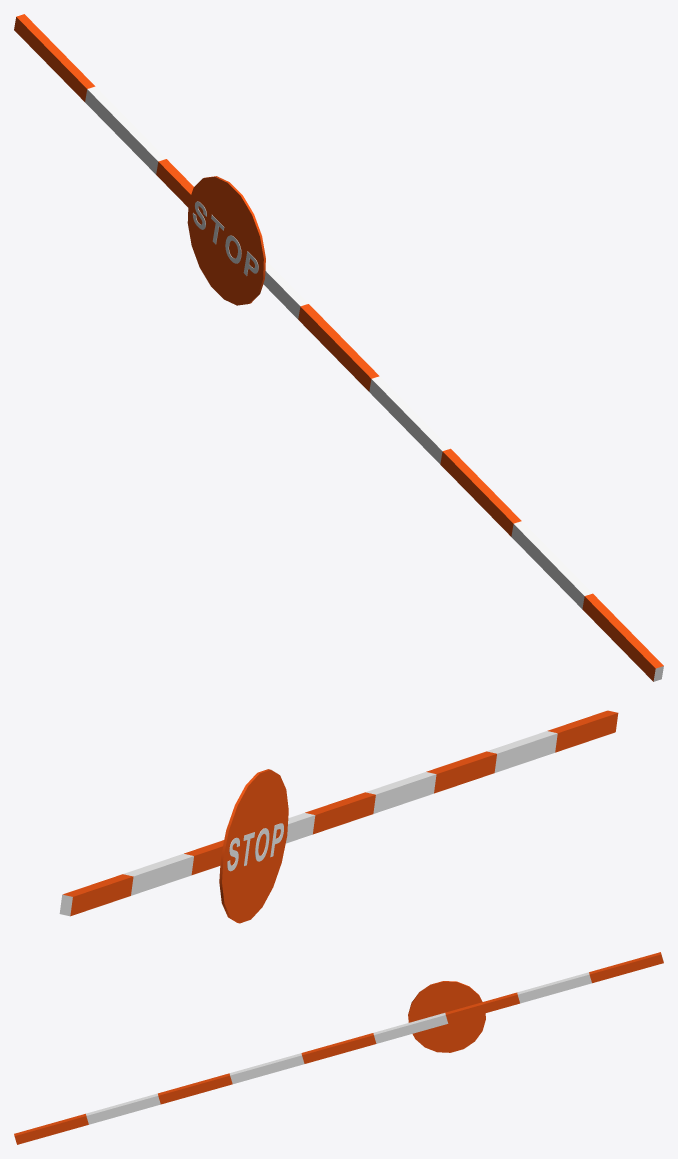
File: 09 Indicator_STOP.FBX
The picture shows the model from 3 angles, top to bottom: view 1: azimuth 30°, elevation 25°; view 2: azimuth 150°, elevation 25°; view 3: azimuth 270°, elevation 25°; orthographic projection. The views are drawn at different scales.
Visible parts, largest first — view 1: Indicator_STOP; view 2: Indicator_STOP; view 3: Indicator_STOP.
Part boxes in pixels (box(x1,y1,x2,y2)): Indicator_STOP: box(14, 14, 663, 681); Indicator_STOP: box(59, 710, 618, 923); Indicator_STOP: box(14, 952, 663, 1144).
Size of the model in its own units: 87.19 by 248 by 879.
